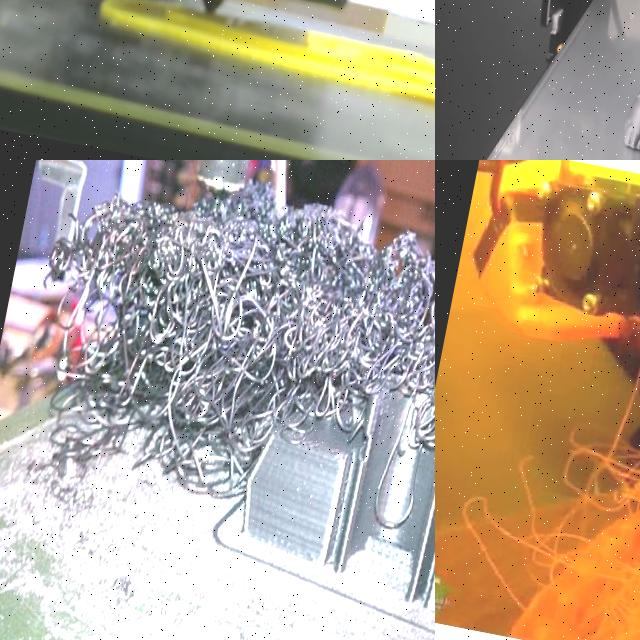spaghetti: (47, 186, 435, 489), (493, 353, 640, 640)
